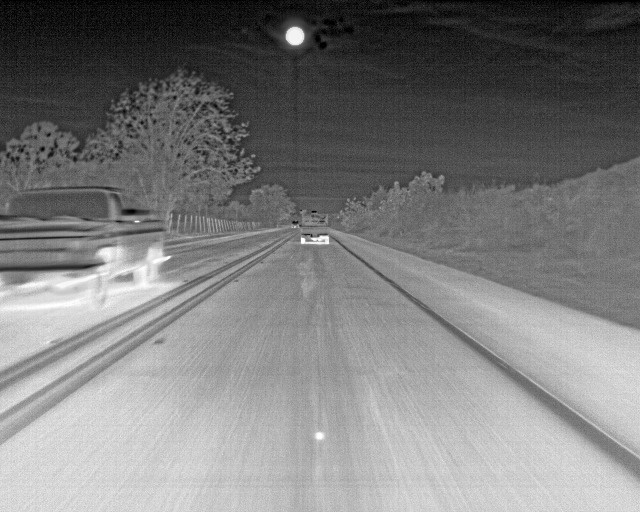vehicle: (1, 185, 168, 306), (300, 209, 330, 245)
